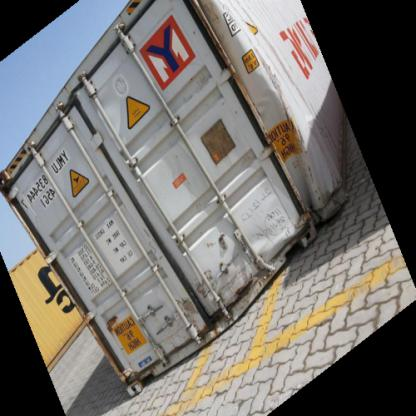Damage: (208, 3, 333, 235), (157, 258, 262, 315), (90, 307, 130, 342)
